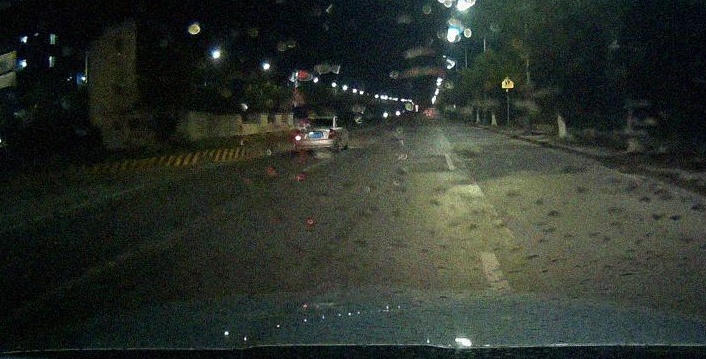L_light: (295, 131, 302, 141)
R_light: (328, 130, 335, 139)
T_light: (314, 119, 320, 120)
night-left: (294, 116, 336, 155)
